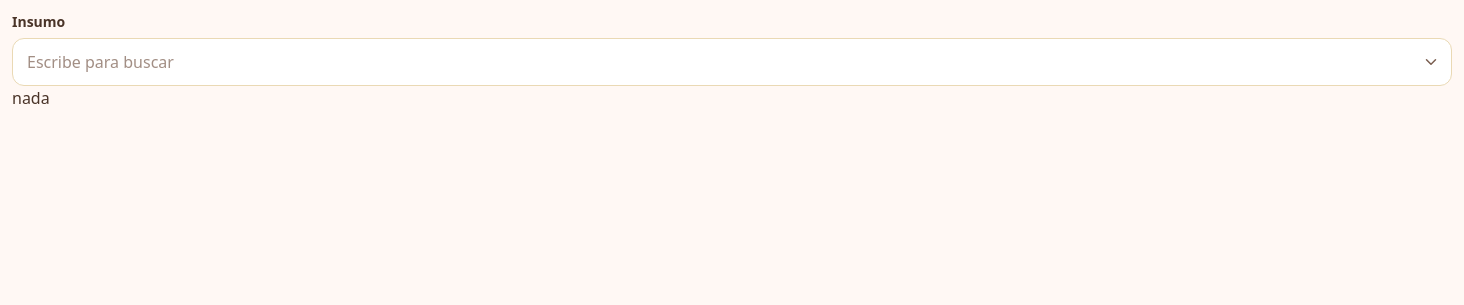
it: Buscador › se maneja con flechas y Enter, saltando las deshabilitadas
Type "a" into the dropdown labelled "Insumo" at (732, 62), box [12, 38, 1452, 86]
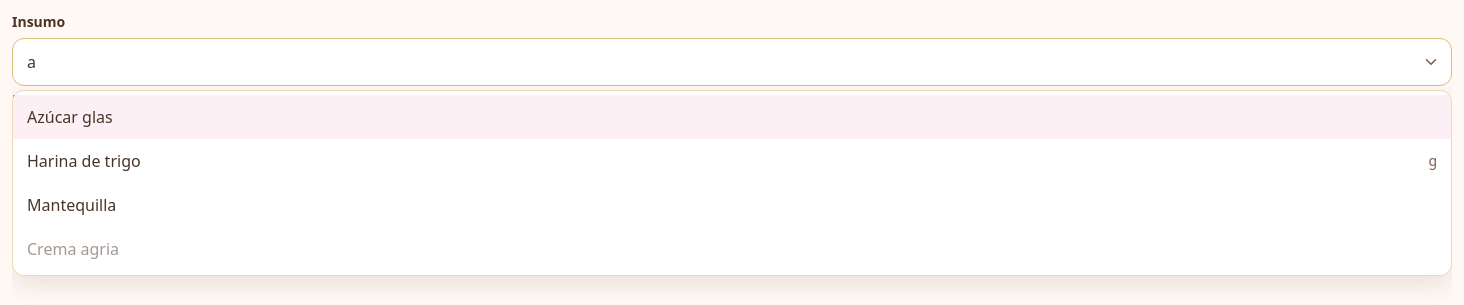
// Coinciden: Azúcar glas, Harina de trigo, Mantequilla, Crema agria (deshabilitada).
Press Arrowdown Arrowdown Enter
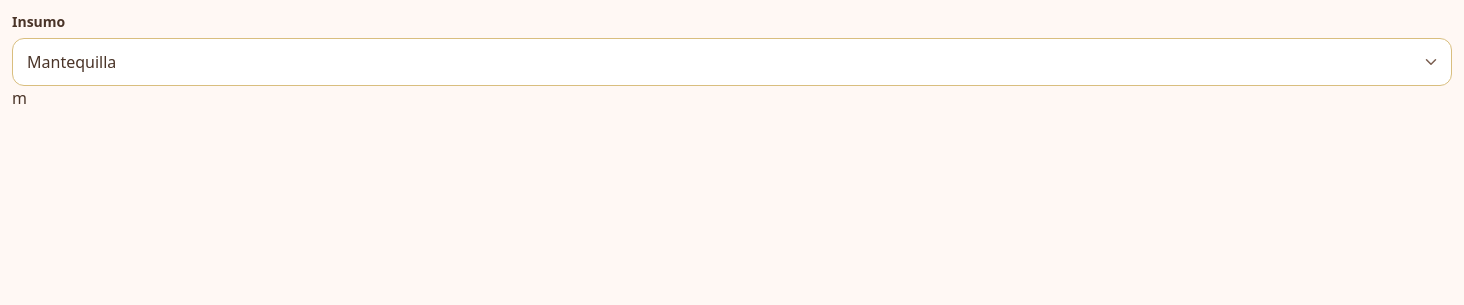
Result: the text "m" is shown at [12, 87, 27, 109]
